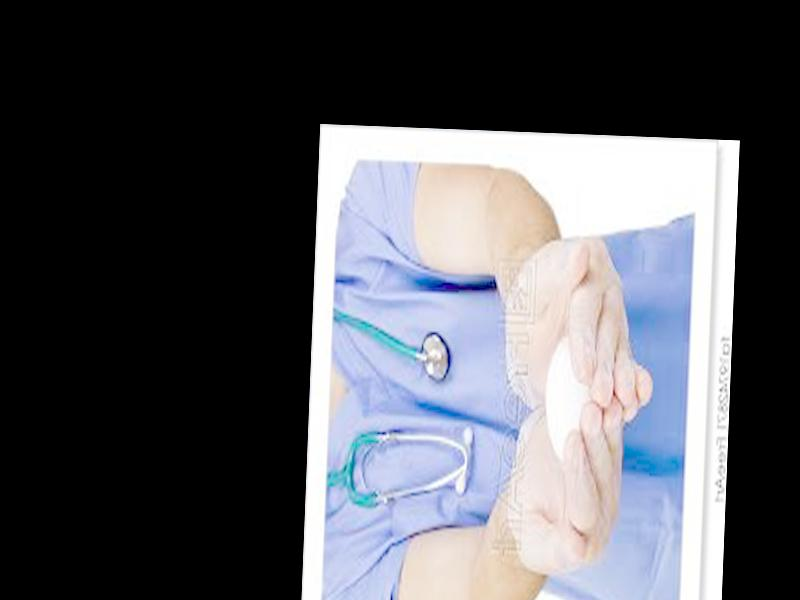Eggs: (542, 339, 595, 463)
